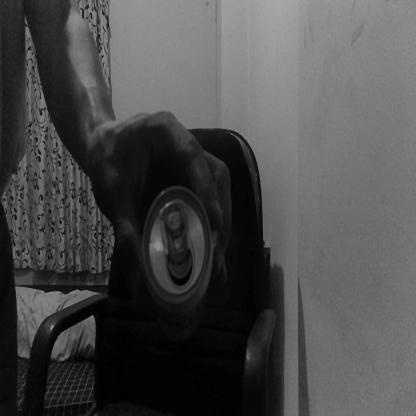alumunium_can: (140, 179, 212, 316)
